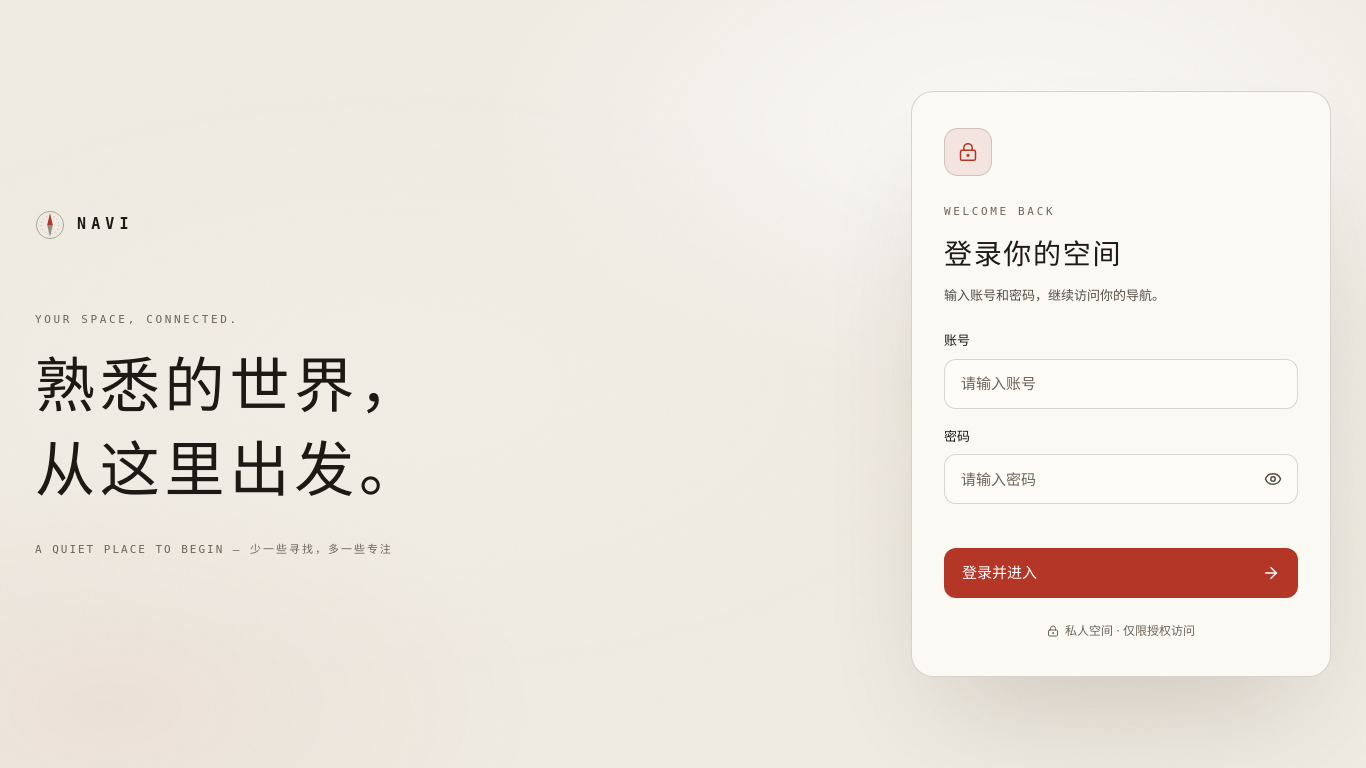
Test: LoginPage › reports HTTP 401 invalid_credentials and allows the user to retry
This screenshot has width=1366, height=768.
Step 1. Type "navi-user" into the field labelled "账号" → (1121,384), box 944,359 -> 1298,409
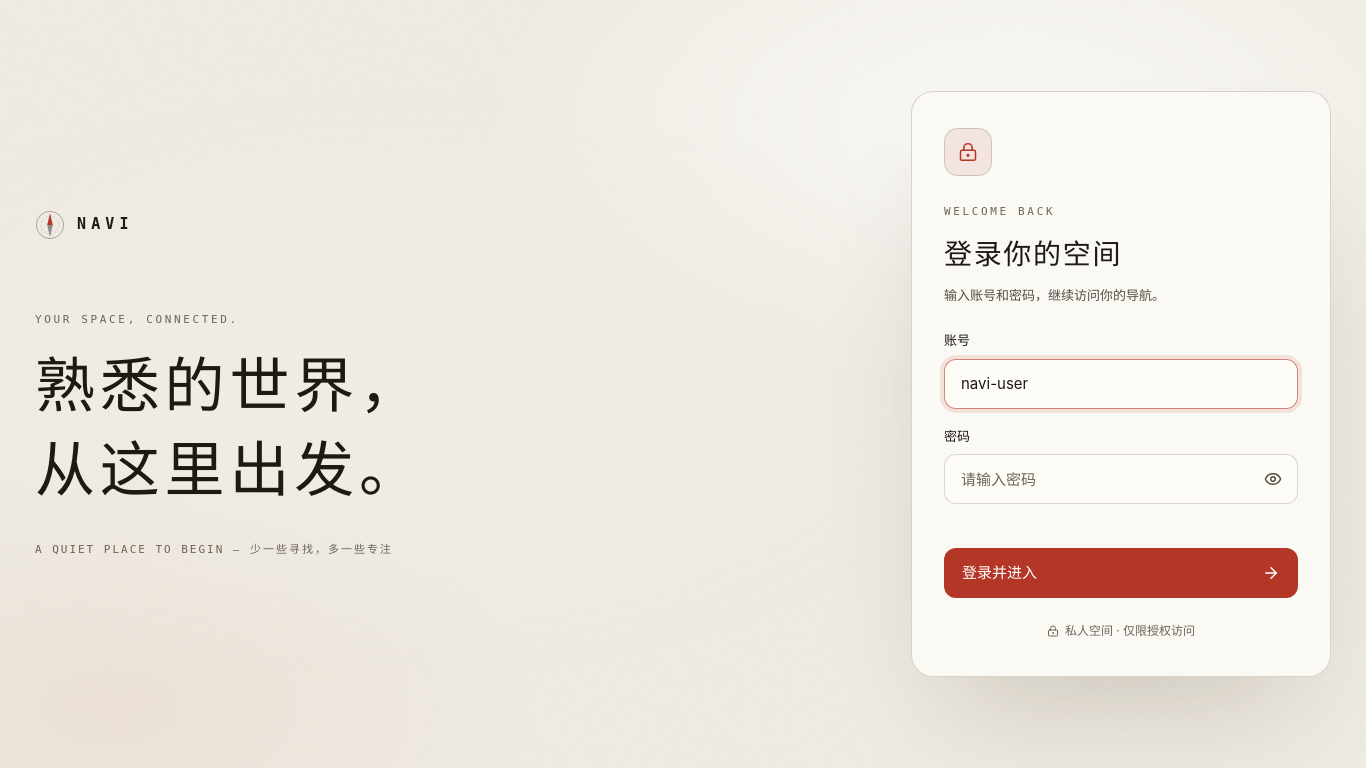
Step 2. Type "test-password" into the password field labelled "密码" → (1121,479), box 944,454 -> 1298,504
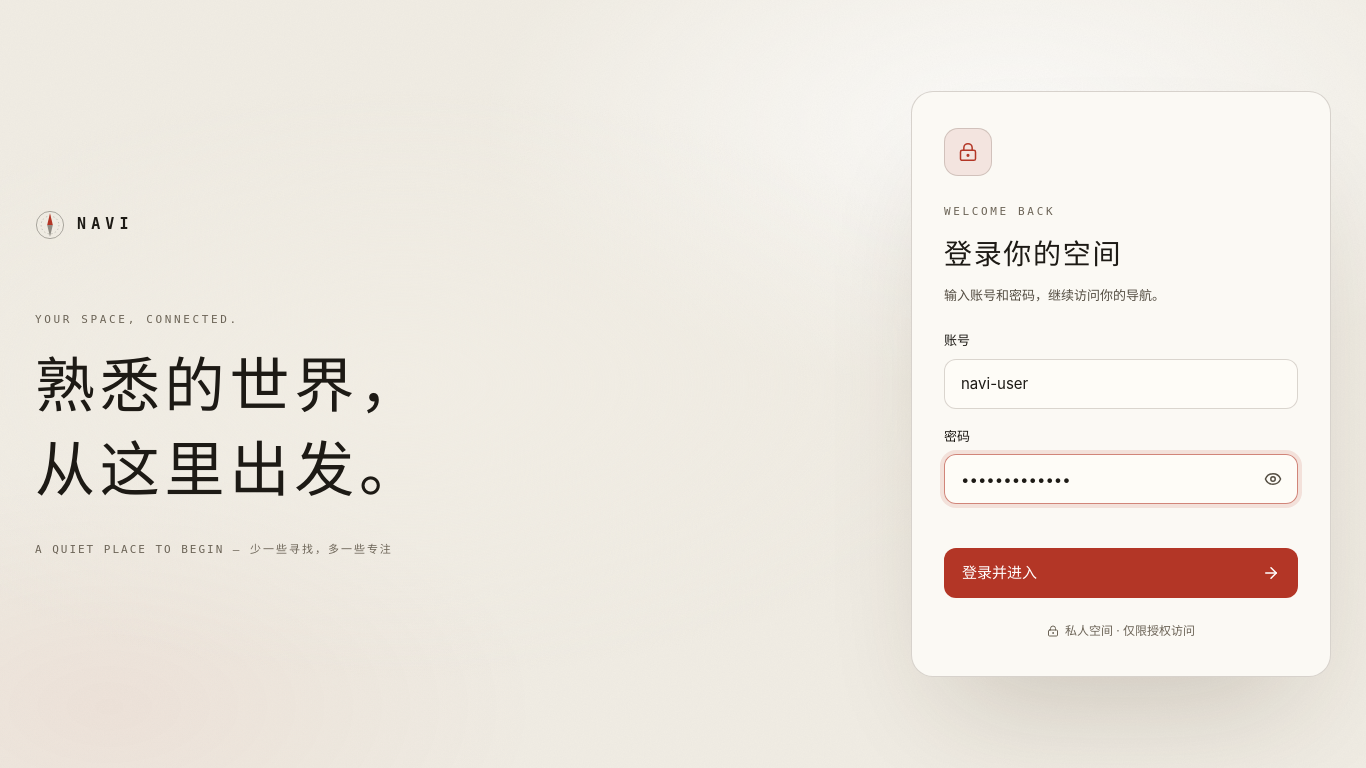
Step 3. Click the button "登录并进入" → (1000,572), box 944,548 -> 1298,598
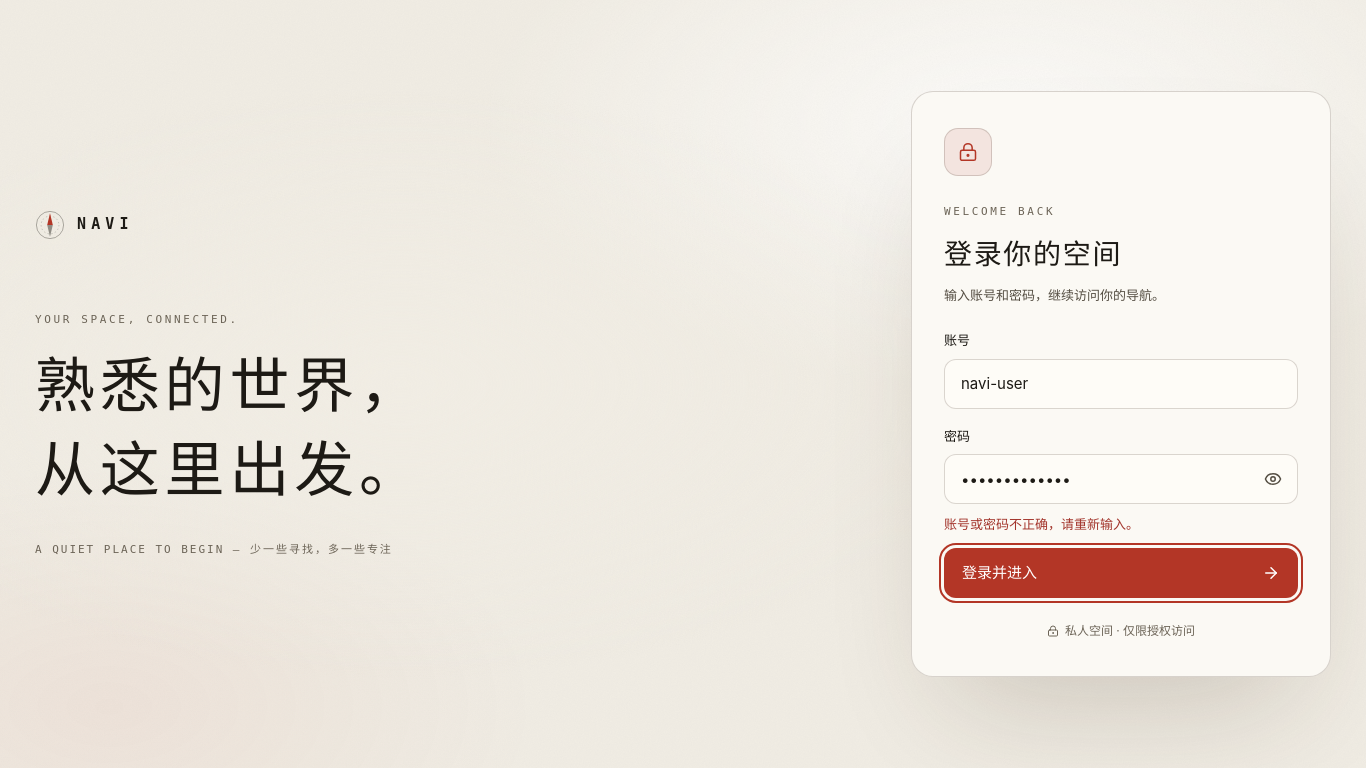
Expected: the message reads "账号或密码不正确，请重新输入。", 944,516 -> 1139,532
